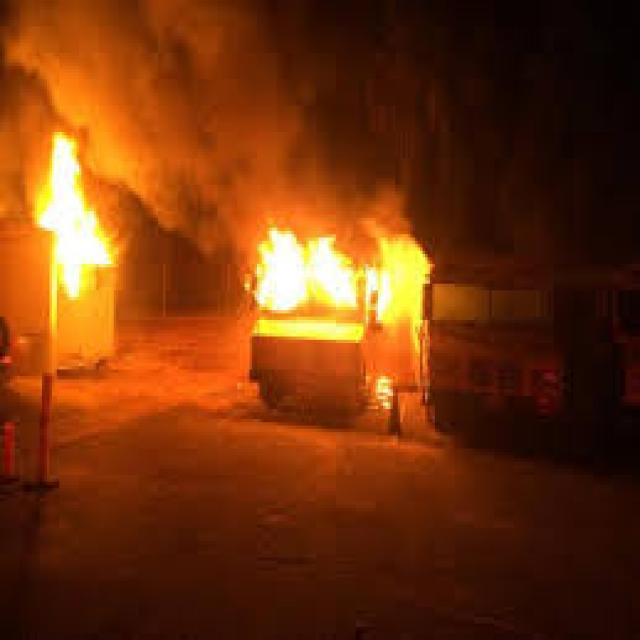fire: (32, 120, 112, 325), (247, 226, 369, 328)
